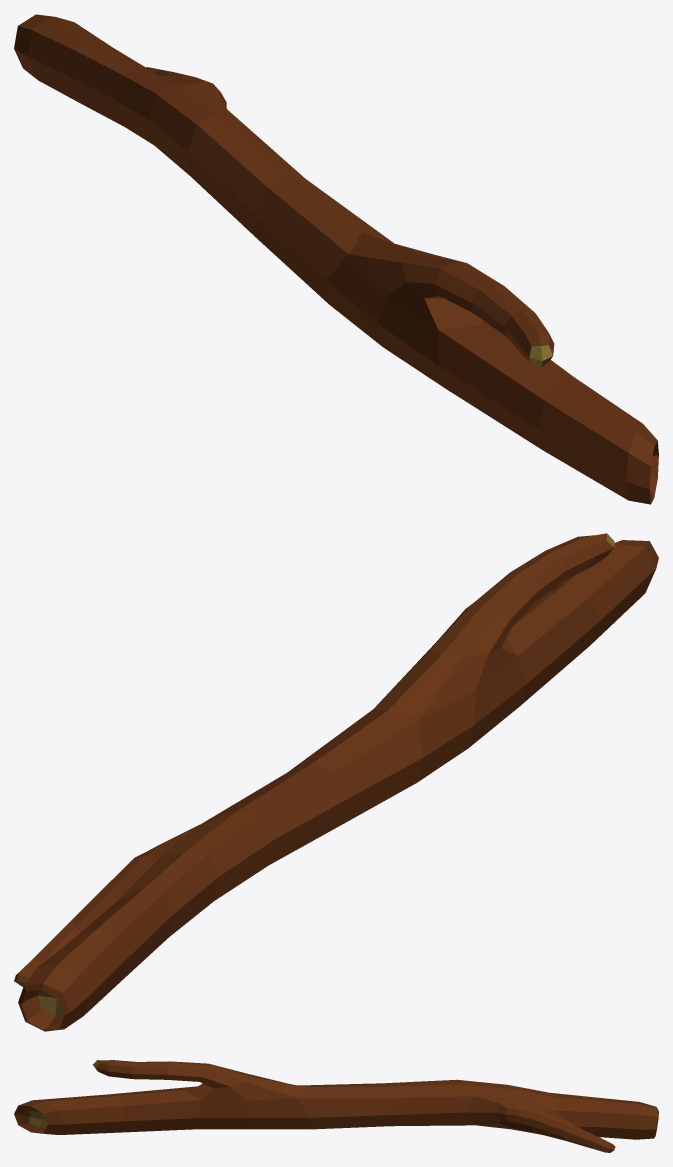
The model's file is result.gltf.
3 renders of one model, top to bottom at view 1: azimuth 30°, elevation 25°; view 2: azimuth 150°, elevation 25°; view 3: azimuth 270°, elevation 25°, orthographic. The views are drawn at different scales.
Visible parts, largest first — view 1: Log_1; view 2: Log_1; view 3: Log_1.
Boxes of the visible parts, x1,y1,x2,y2 form: Log_1: [14, 14, 658, 504]; Log_1: [14, 533, 658, 1031]; Log_1: [14, 1060, 658, 1152].
Size of the model in its own units: 53.01 by 54.76 by 459.
